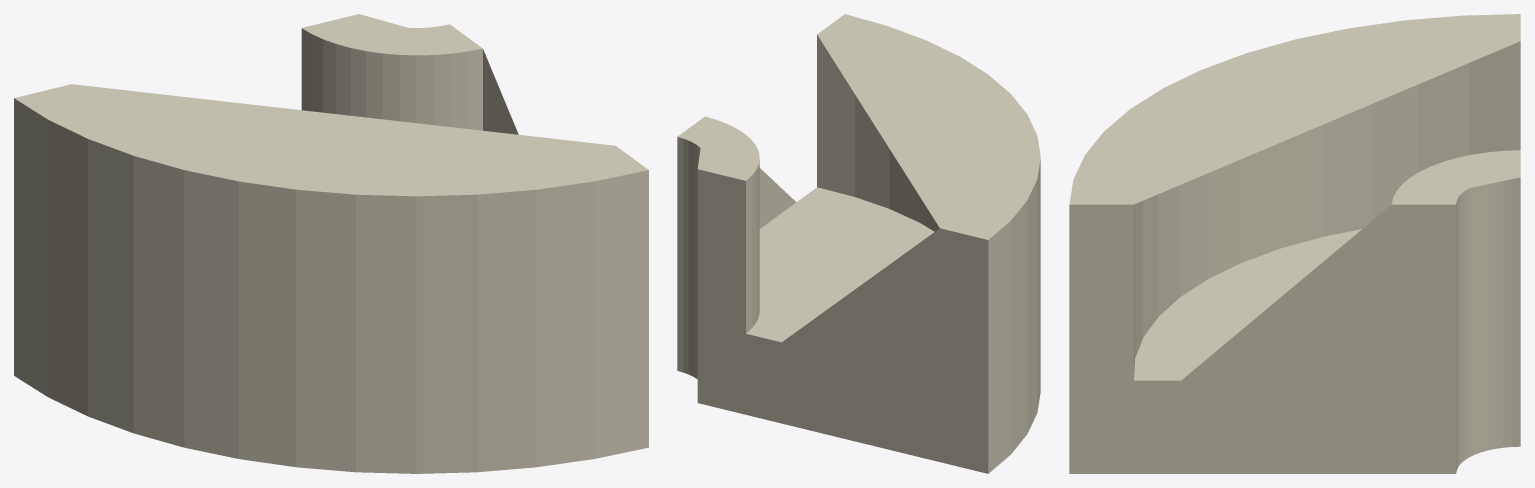
Rendered from roadtile_256.glb.
The picture shows the model from 3 angles, left to right: view 1: azimuth 30°, elevation 25°; view 2: azimuth 150°, elevation 25°; view 3: azimuth 270°, elevation 25°; orthographic projection. The views are drawn at different scales.
Parts seen in each view (by area): view 1: Mesh1 Group1 Model; view 2: Mesh1 Group1 Model; view 3: Mesh1 Group1 Model.
Part boxes in pixels (x1,y1,x2,y2): Mesh1 Group1 Model: [14, 14, 648, 473]; Mesh1 Group1 Model: [677, 14, 1040, 473]; Mesh1 Group1 Model: [1069, 14, 1520, 473].
Bounding box in the file's own units: 2.62 × 1.73 × 2.62.
